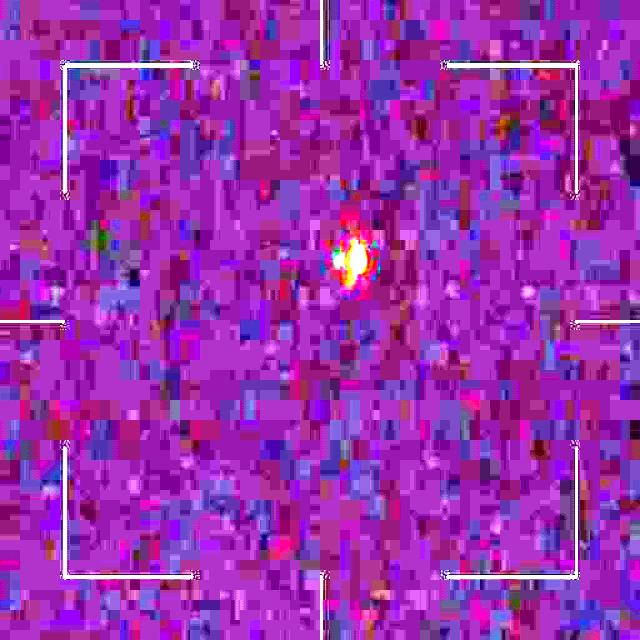bird: (332, 238, 369, 288)
